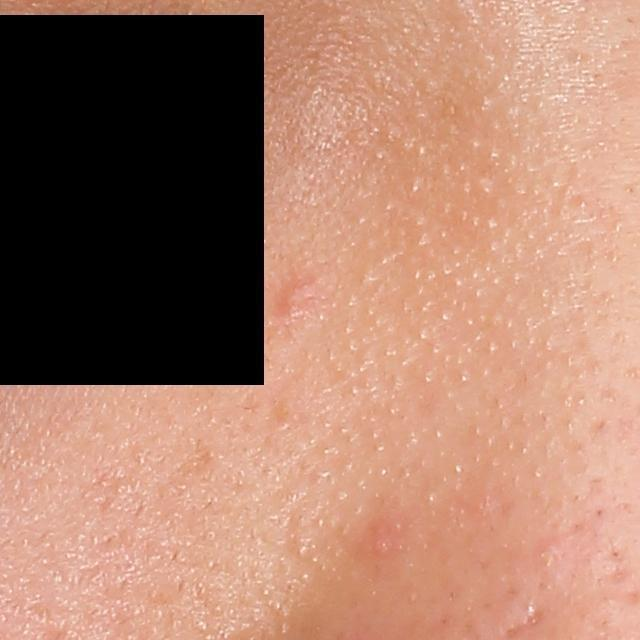papule: (279, 274, 318, 323)
